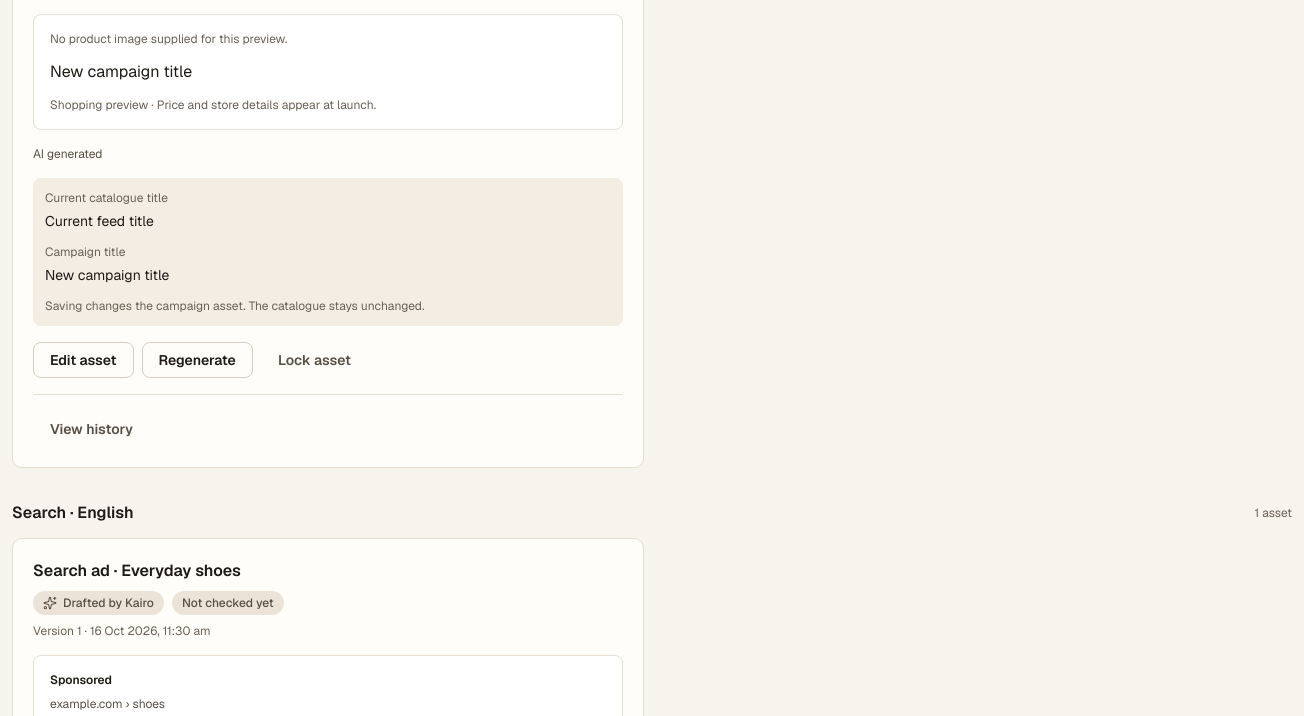
Test case: open edits block other controls and filter navigation
(page scrolled)
Step 1. Click the button "Edit asset" → (83, 360), box [33,342,134,378]
(page scrolled)
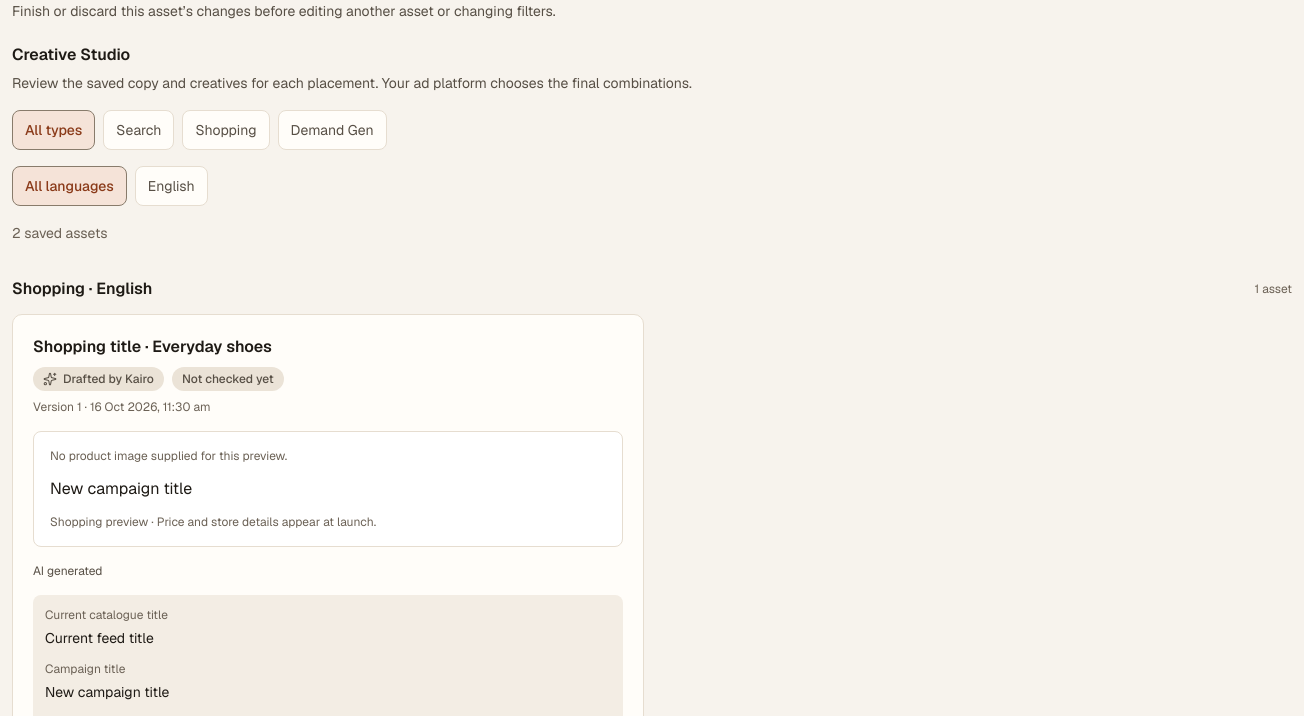
Step 2. Click the link "All languages" → (69, 186), box [12,166,127,206]
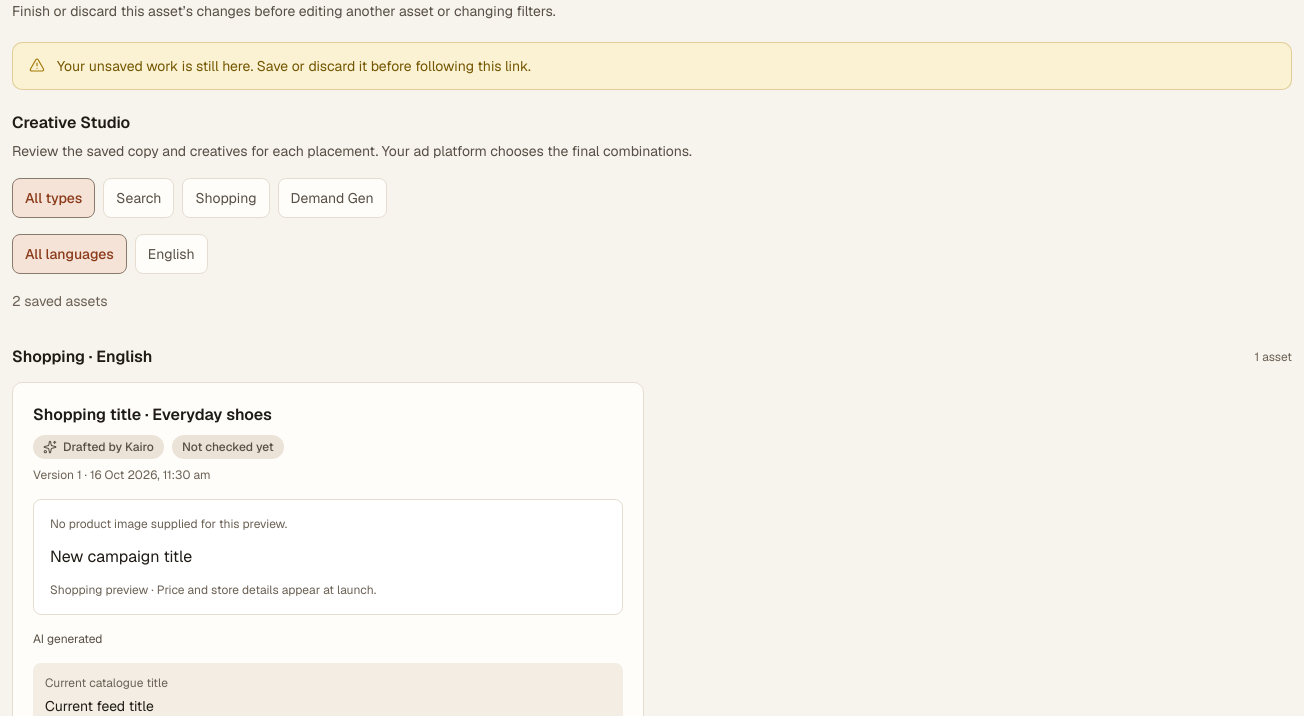
expect the text "Save or discard it before following" is shown: met, box [57,57,531,75]
